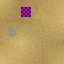person: (8, 27, 16, 36)
structure: (32, 6, 48, 18)
